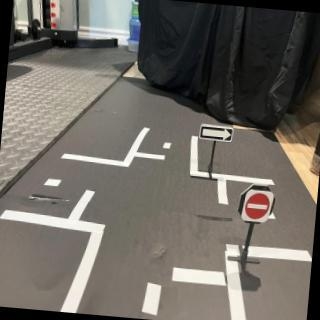sign_noentry: (242, 191, 275, 225)
sign_oneway_right: (200, 124, 235, 145)
